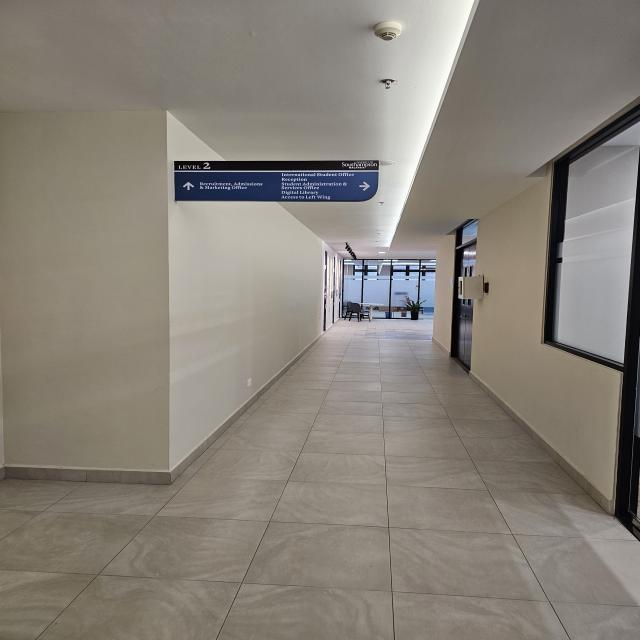footpath: (214, 387, 515, 638)
